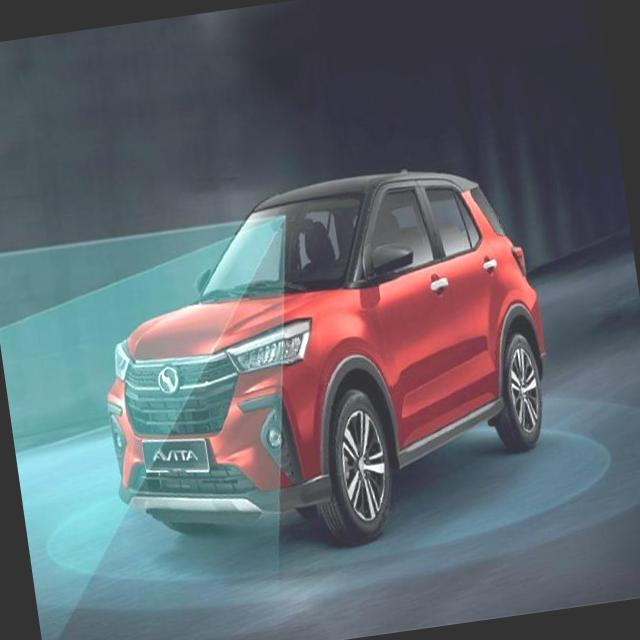PeroduaAtiva: (78, 150, 572, 578)
